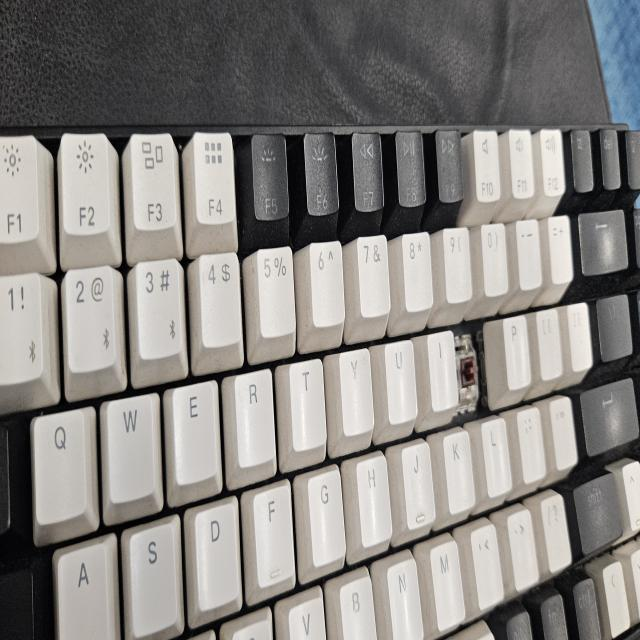C: (454, 332, 487, 400)
